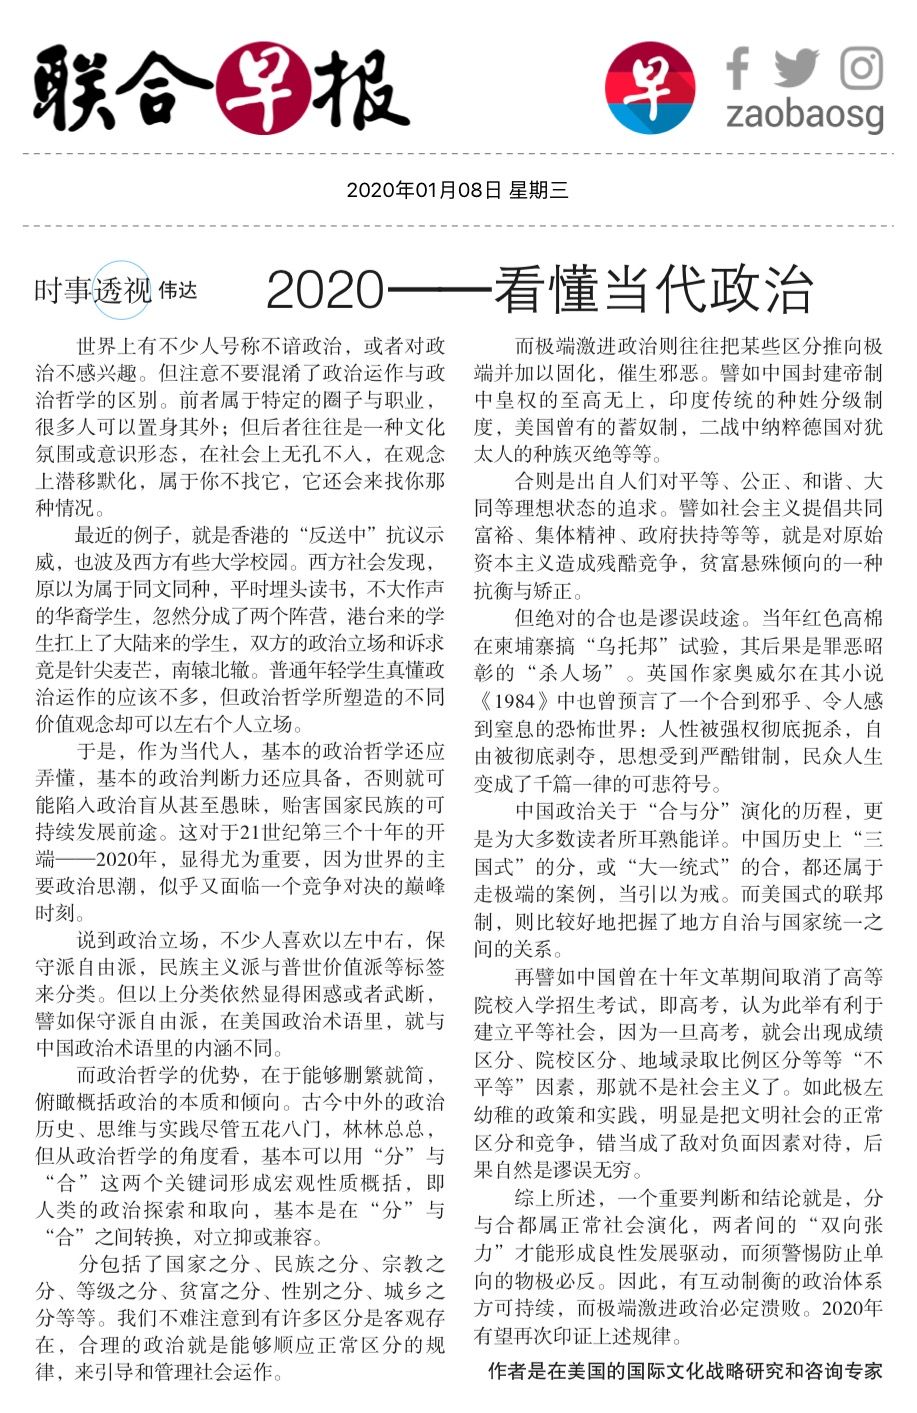heading: (258, 252, 824, 320)
